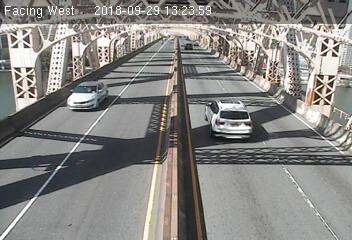car: (201, 99, 255, 144), (65, 78, 111, 111), (182, 41, 196, 51)
